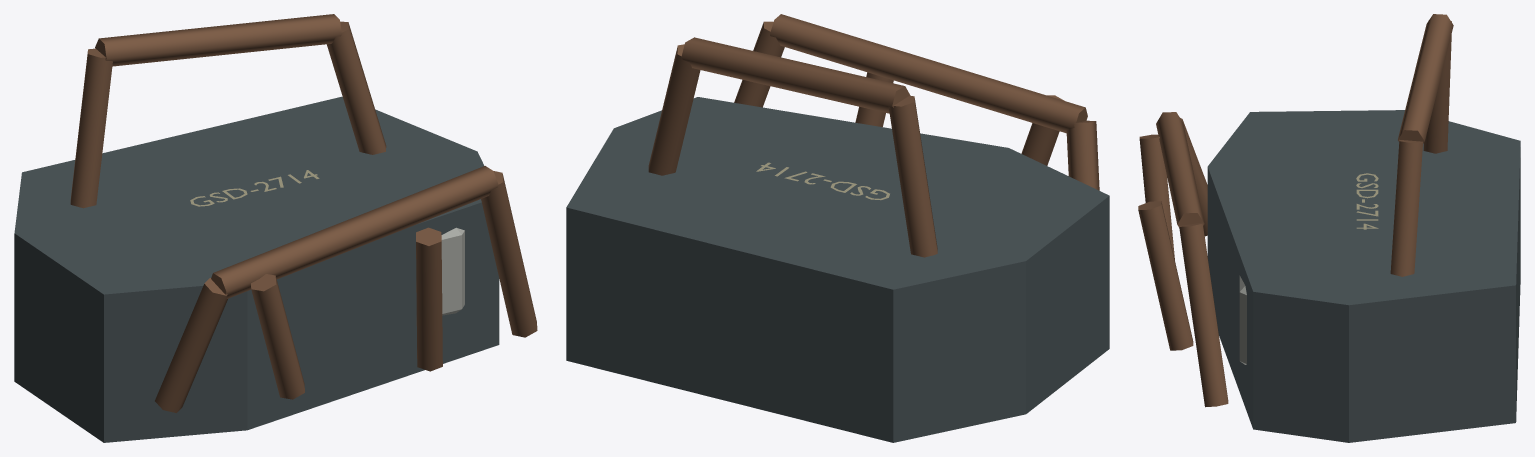
File: Drainage_DamagedInspectionLamp.fbx
3 renders of one model, left to right at view 1: azimuth 30°, elevation 25°; view 2: azimuth 150°, elevation 25°; view 3: azimuth 270°, elevation 25°, orthographic. The views are drawn at different scales.
Parts seen in each view (by area): view 1: Drainage_DamagedInspectionLamp; view 2: Drainage_DamagedInspectionLamp; view 3: Drainage_DamagedInspectionLamp.
Part boxes in pixels (left/top/right/bottom): Drainage_DamagedInspectionLamp: left=14, top=14, right=537, bottom=442; Drainage_DamagedInspectionLamp: left=566, top=14, right=1109, bottom=442; Drainage_DamagedInspectionLamp: left=1138, top=14, right=1520, bottom=442.
Size of the model in its own units: 0.304 by 0.2038 by 0.2516.
